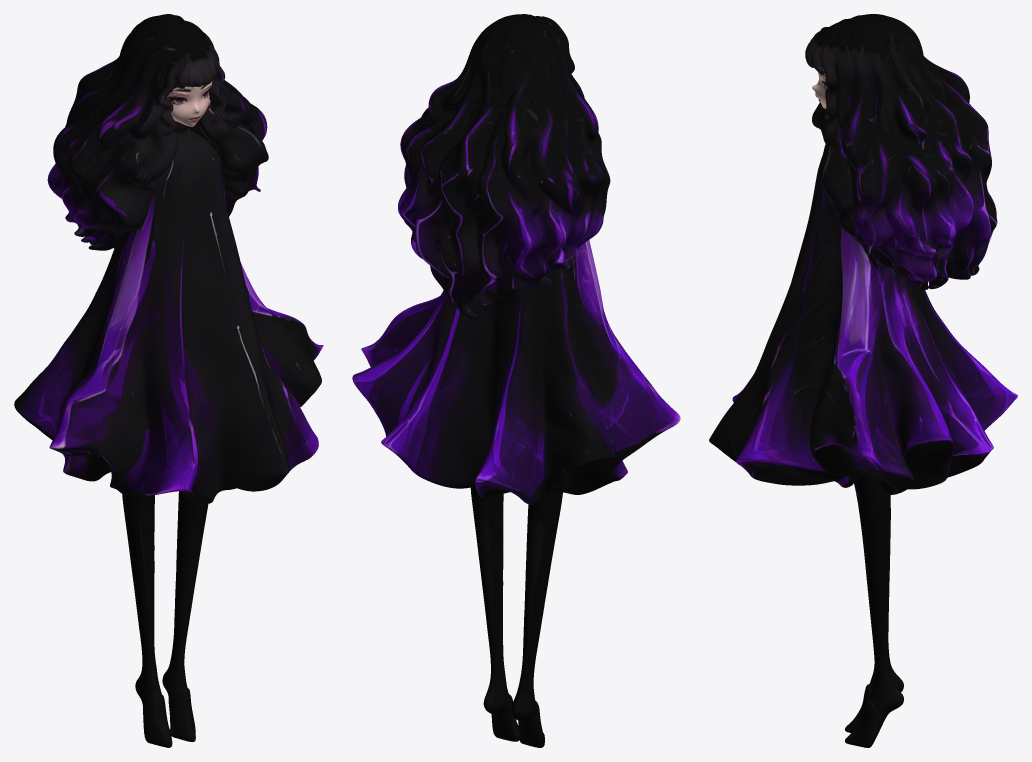
File: avatar.glb
3 renders of one model, left to right at view 1: azimuth 30°, elevation 25°; view 2: azimuth 150°, elevation 25°; view 3: azimuth 270°, elevation 25°, orthographic.
Size of the model in its own units: 0.8144 by 1.9 by 0.7382.
Materials: 1 (1 with a texture image).
